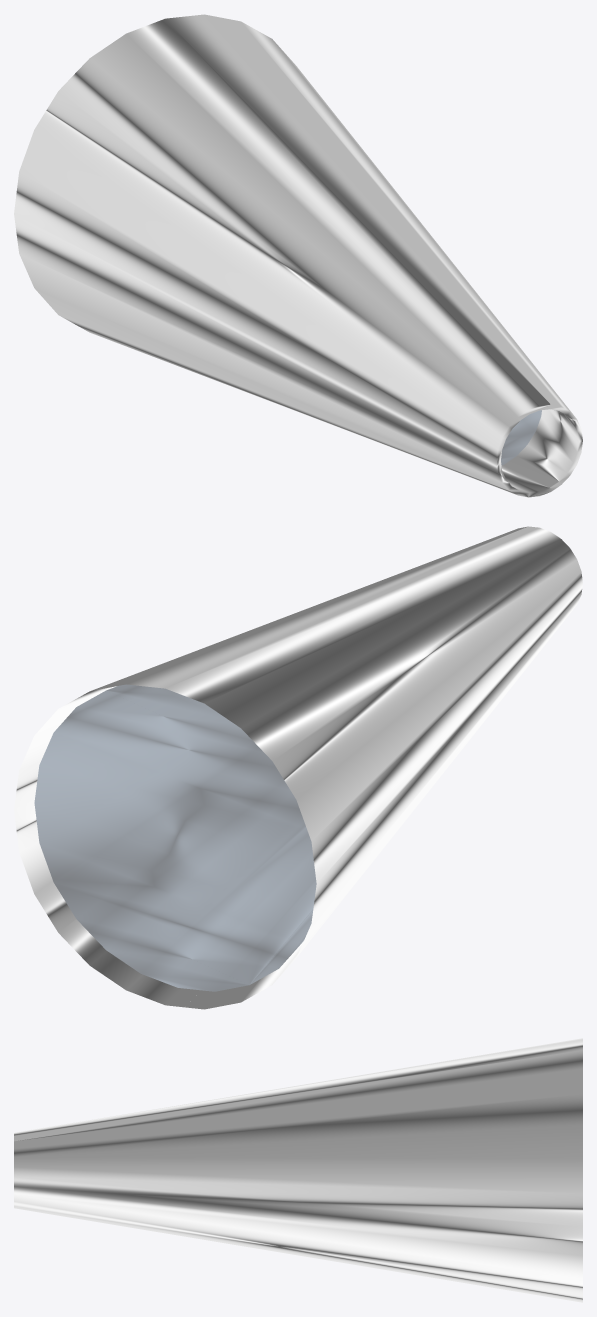
Rendered from model_align.obj.
The picture shows the model from 3 angles, top to bottom: view 1: azimuth 30°, elevation 25°; view 2: azimuth 150°, elevation 25°; view 3: azimuth 270°, elevation 25°; orthographic projection. The views are drawn at different scales.
Size of the model in its own units: 0.0677 by 0.0677 by 0.145.
